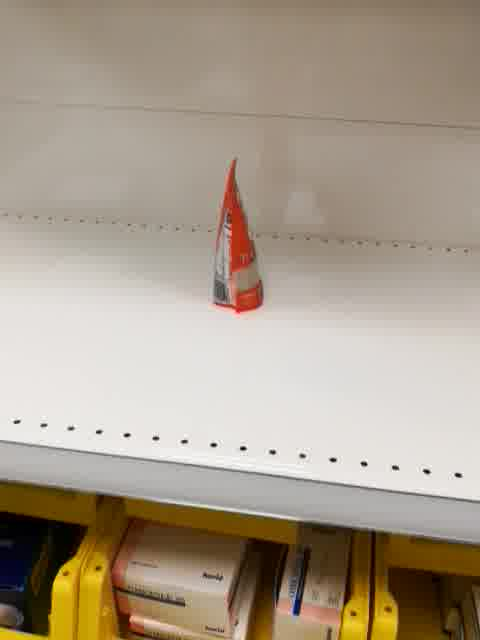whitechia: (208, 152, 266, 315)
